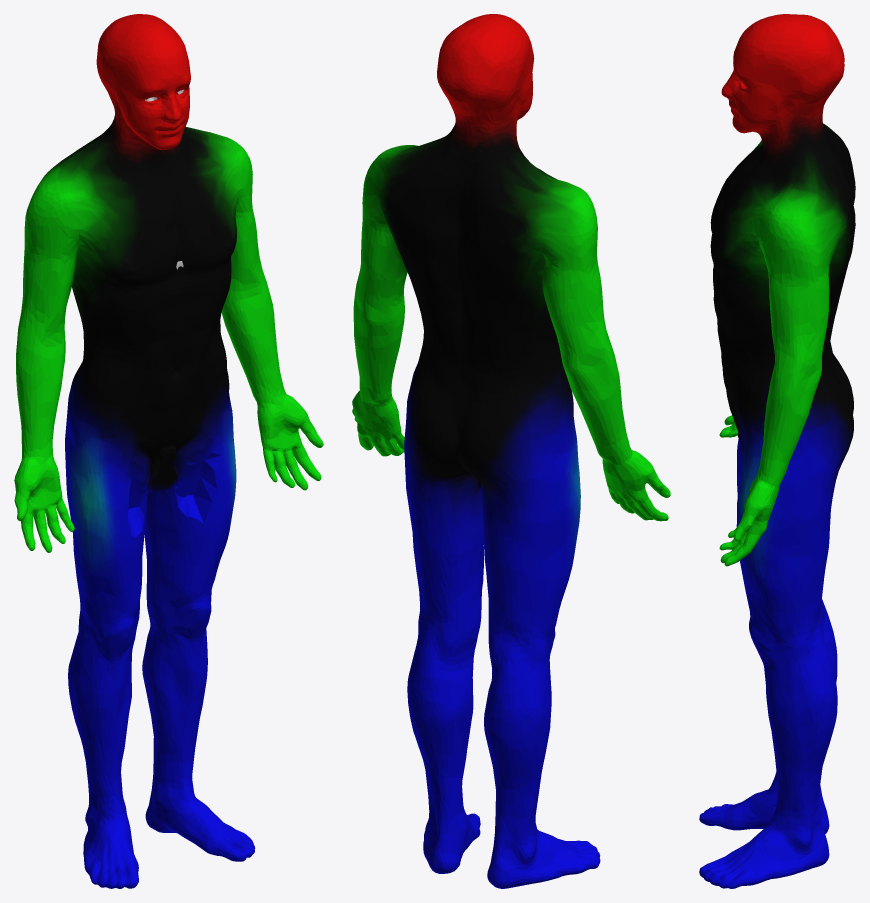
Rendered from anatomy.glb.
The picture shows the model from 3 angles, left to right: view 1: azimuth 30°, elevation 25°; view 2: azimuth 150°, elevation 25°; view 3: azimuth 270°, elevation 25°; orthographic projection. The views are drawn at different scales.
Parts seen in each view (by area): view 1: skin; view 2: skin; view 3: skin.
Part boxes in pixels (x1,y1,x2,y2): skin: (14, 14, 323, 888); skin: (352, 14, 670, 888); skin: (699, 14, 855, 888).
Bounding box in the file's own units: 0.388 × 1 × 0.1699.
